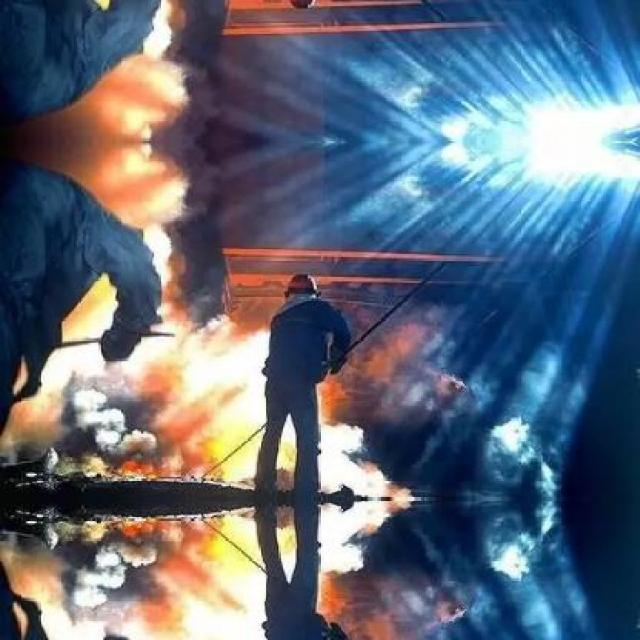helmet: (283, 269, 320, 306), (283, 0, 321, 12)
